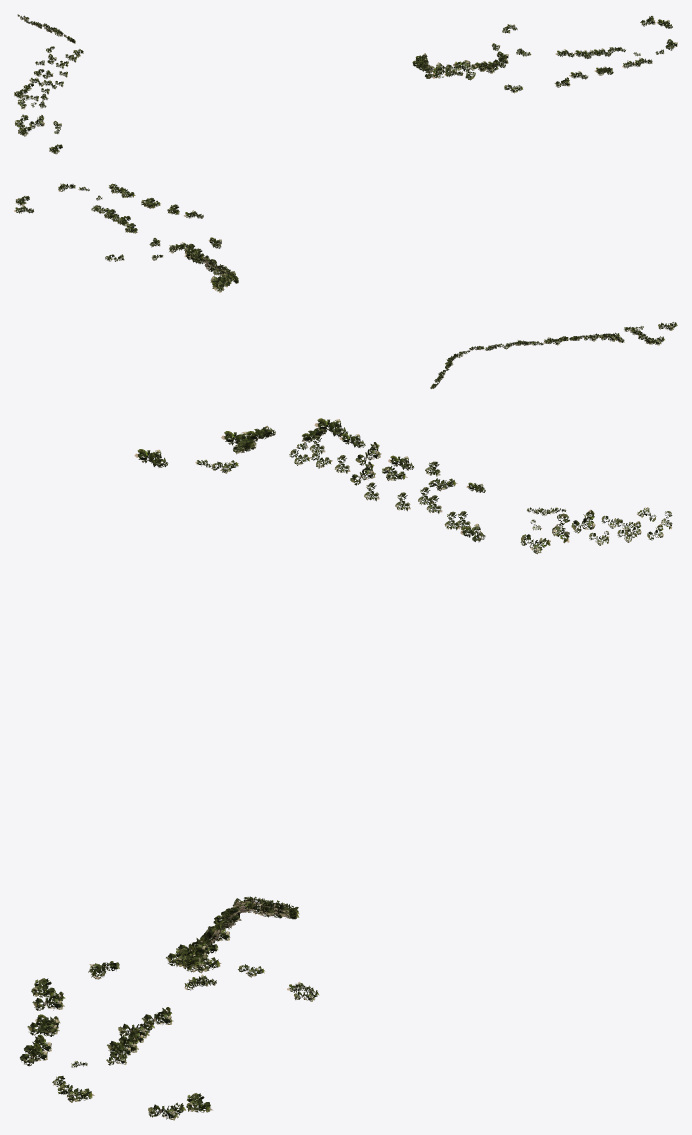
File: Arbustos02.glb
3 views of the same model, one above another, from view 1: azimuth 30°, elevation 25°; view 2: azimuth 150°, elevation 25°; view 3: azimuth 270°, elevation 25° (orthographic). The views are drawn at different scales.
Parts seen in each view (by area): view 1: Vegetacion_Extra; view 2: Vegetacion_Extra; view 3: Vegetacion_Extra.
Boxes of the visible parts, box(x1,y1,x2,y2) form: Vegetacion_Extra: box(14, 14, 677, 154); Vegetacion_Extra: box(14, 183, 677, 388); Vegetacion_Extra: box(20, 418, 672, 1120).
Size of the model in its own units: 139 by 14.19 by 62.18.
Materials: 2 (2 with a texture image).
